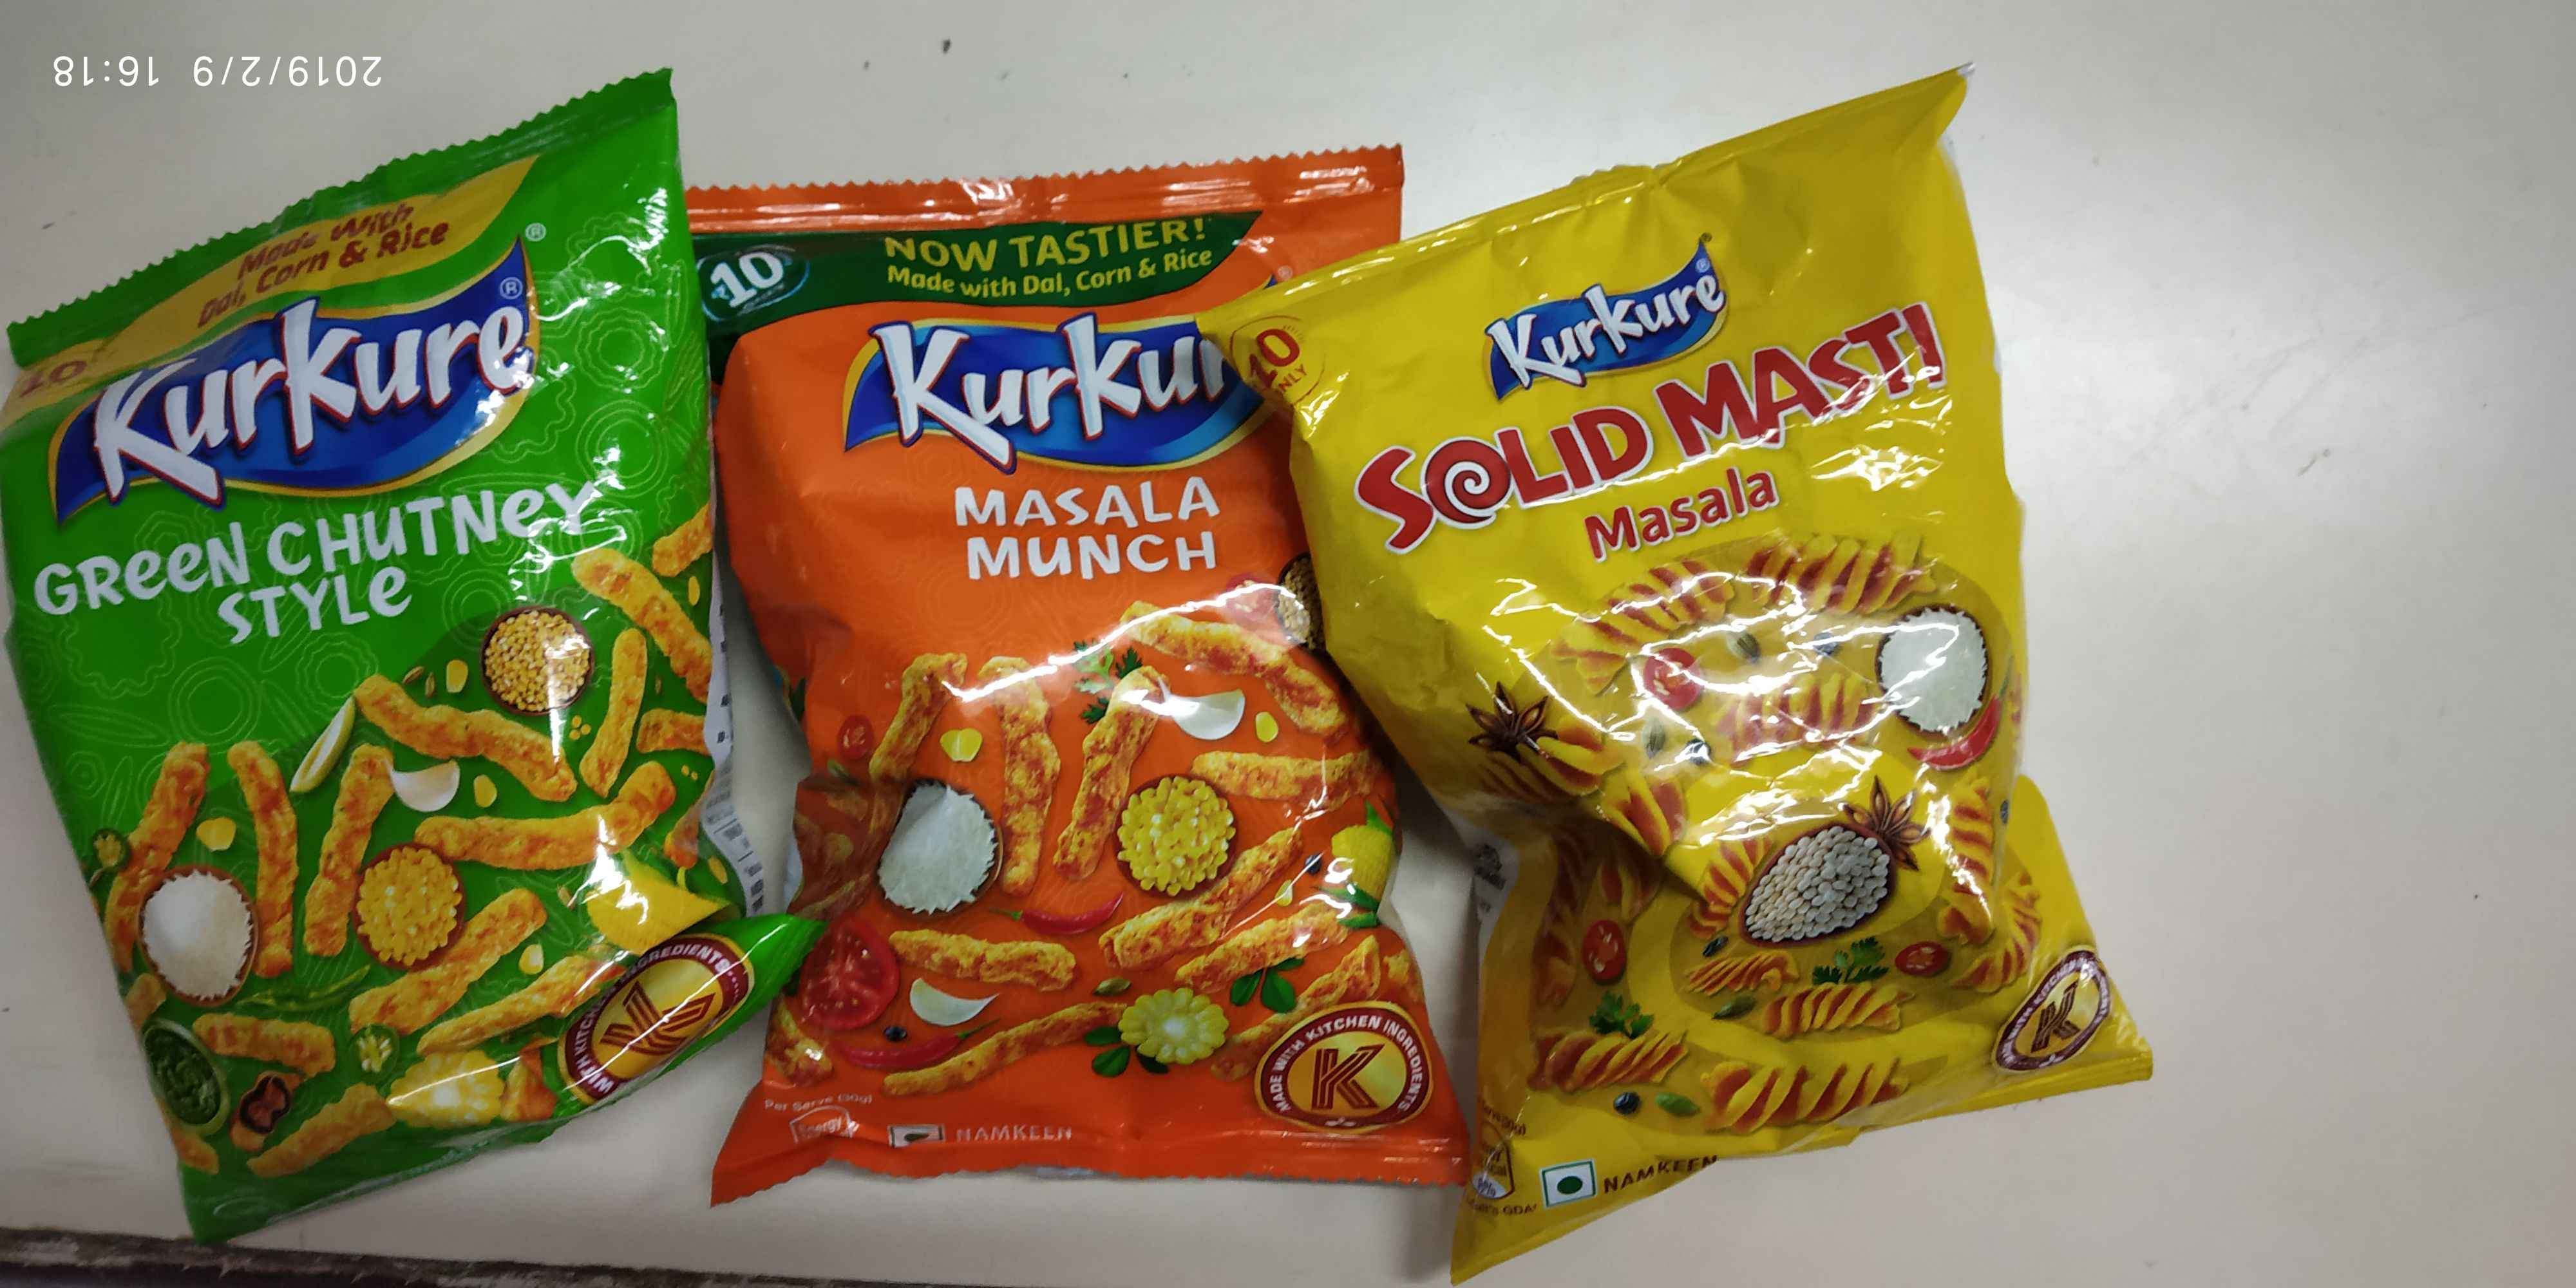kurkure: (64, 227, 567, 519), (813, 306, 1270, 467), (1482, 227, 1738, 417)
